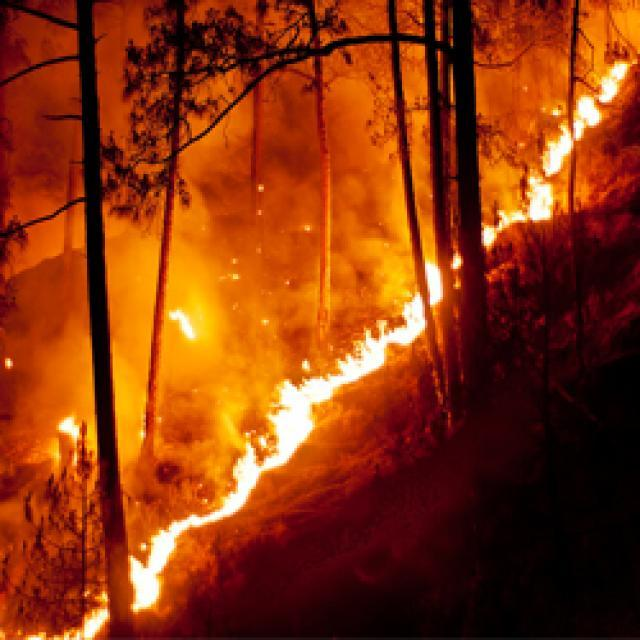Fire: (310, 322, 390, 400), (126, 520, 178, 610), (265, 376, 312, 469), (0, 609, 113, 640), (222, 434, 266, 506), (176, 504, 248, 534), (542, 110, 574, 172), (480, 205, 525, 248), (389, 296, 424, 349), (589, 57, 628, 101), (49, 416, 82, 466), (525, 171, 553, 226), (572, 90, 596, 138), (424, 258, 446, 307), (170, 308, 194, 344), (450, 247, 468, 287), (218, 252, 242, 280), (2, 355, 15, 368), (258, 313, 271, 324), (284, 274, 294, 288), (255, 183, 265, 196), (301, 223, 313, 233), (257, 208, 265, 222), (230, 300, 238, 312)
Smoke: (222, 90, 427, 297), (102, 158, 218, 478), (0, 132, 91, 416), (0, 0, 128, 132), (474, 6, 574, 115), (215, 290, 310, 378), (210, 376, 264, 434)
